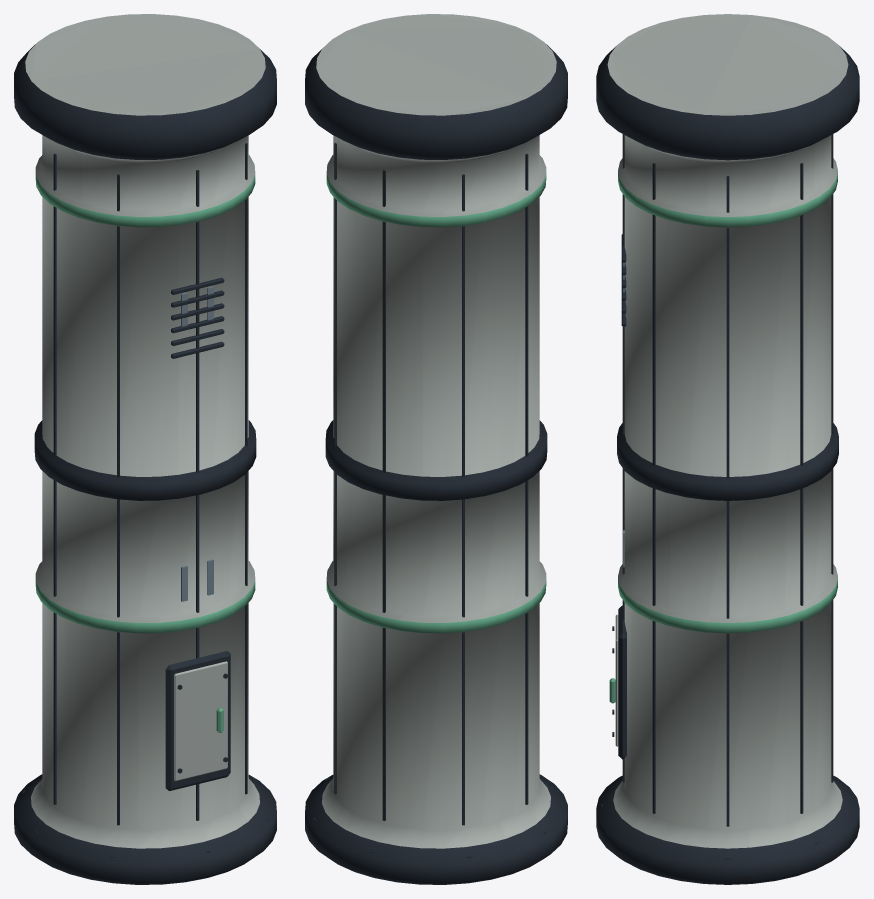
Rendered from spiral_core.glb.
The picture shows the model from 3 angles, left to right: view 1: azimuth 30°, elevation 25°; view 2: azimuth 150°, elevation 25°; view 3: azimuth 270°, elevation 25°; orthographic projection.
Parts seen in each view (by area): view 1: spiral_core; view 2: spiral_core; view 3: spiral_core.
Part boxes in pixels (x1,y1,x2,y2): spiral_core: [14, 14, 276, 884]; spiral_core: [305, 14, 567, 884]; spiral_core: [596, 14, 859, 884].
Size of the model in its own units: 1.4 by 4.5 by 1.4.
